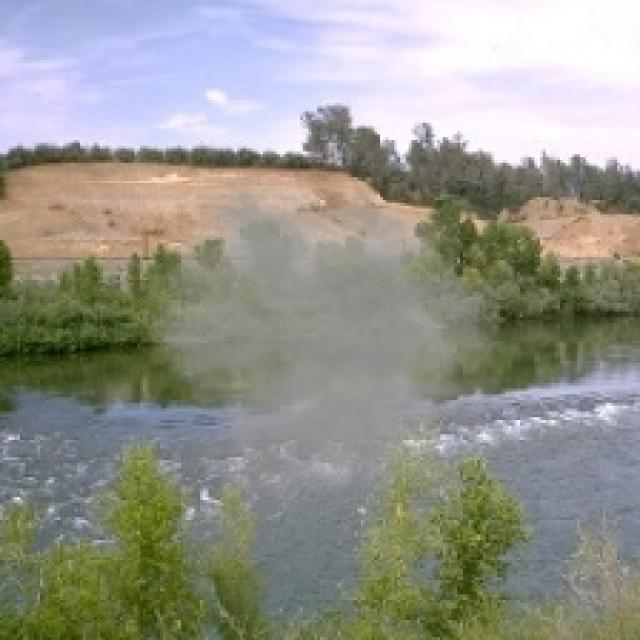Smoke: (132, 177, 517, 529)
